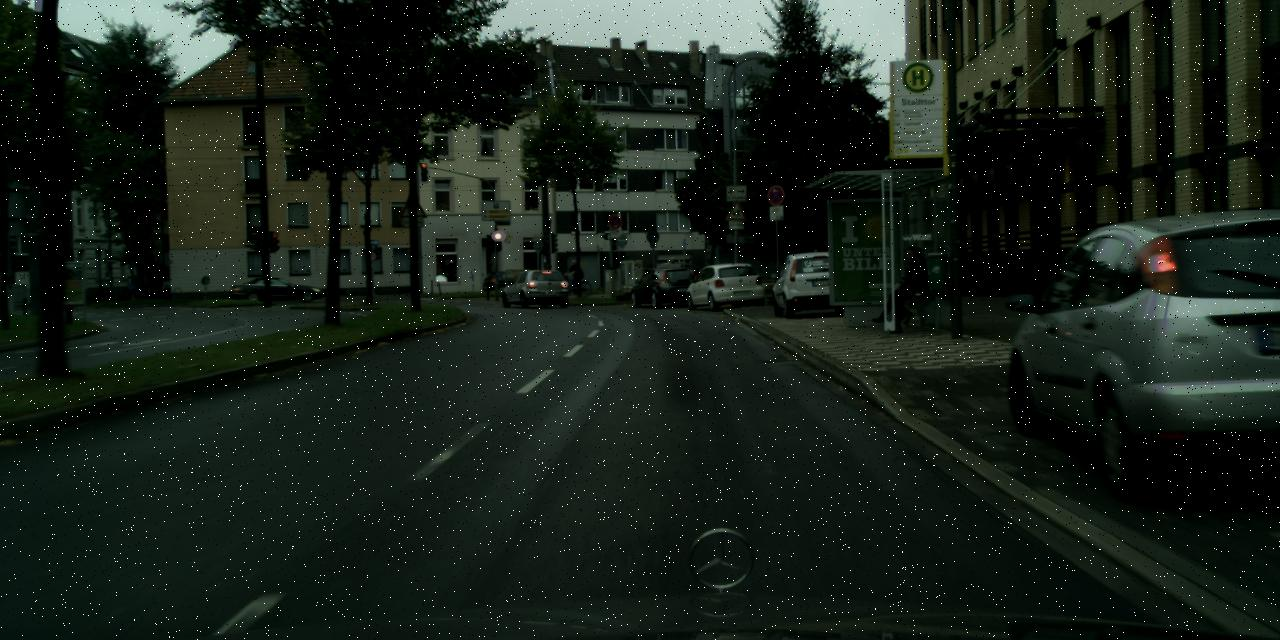ped: (664, 256, 678, 296), (568, 259, 580, 291)
